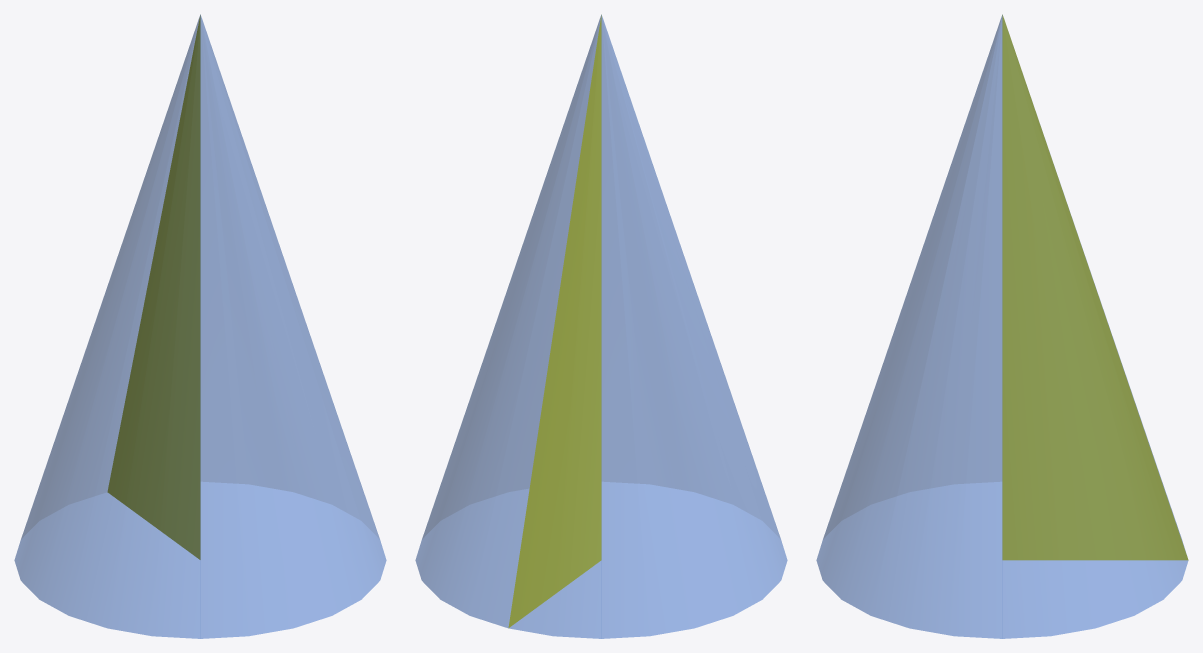
The model's file is Geometria.fbx.
3 renders of one model, left to right at view 1: azimuth 30°, elevation 25°; view 2: azimuth 150°, elevation 25°; view 3: azimuth 270°, elevation 25°, orthographic.
Visible parts, largest first — view 1: Model; view 2: Model; view 3: Model.
Boxes of the visible parts, x1,y1,x2,y2 form: Model: (14,14,386,638); Model: (415,14,787,638); Model: (816,14,1188,638).
Bounding box in the file's own units: 1319 × 2137 × 1319.
